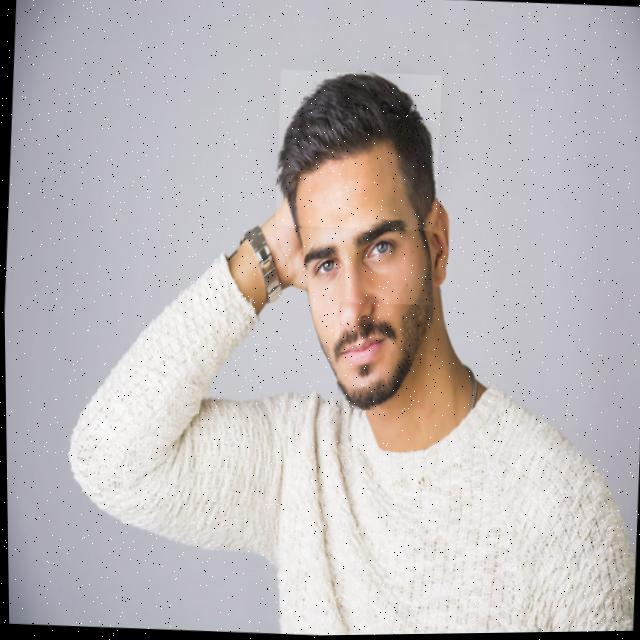beard: (337, 307, 428, 409), (332, 321, 398, 361)
hair: (277, 74, 437, 230)
